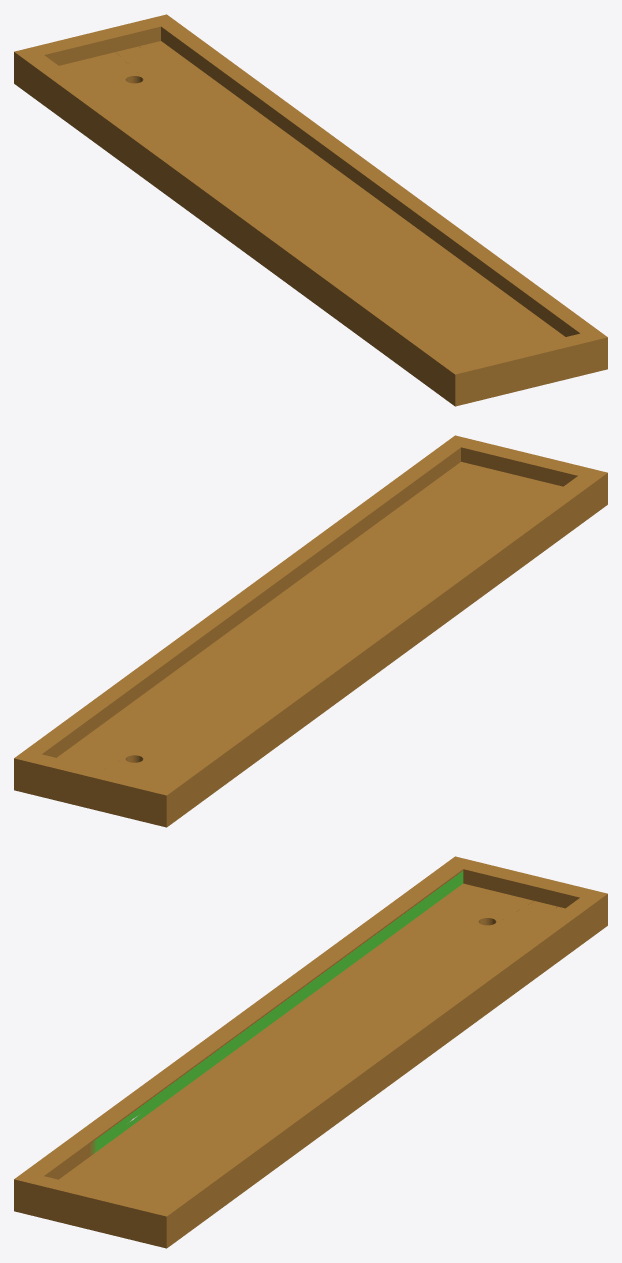
3 views of the same model, one above another, from view 1: azimuth 30°, elevation 25°; view 2: azimuth 150°, elevation 25°; view 3: azimuth 330°, elevation 25° (orthographic).
Parts seen in each view (by area): view 1: Cube.001; view 2: Cube.001; view 3: Cube.001.
Boxes of the visible parts, <box> form: Cube.001: <box>14,14,607,406</box>; Cube.001: <box>14,435,607,827</box>; Cube.001: <box>14,856,607,1248</box>.
Size of the model in its own units: 10 by 2 by 50.
